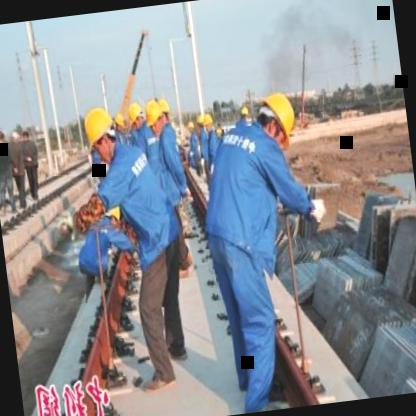head: (0, 124, 6, 147)
helmet: (251, 86, 301, 150), (78, 99, 121, 165), (142, 96, 166, 136), (126, 97, 148, 136), (157, 94, 173, 122), (112, 107, 126, 134), (202, 108, 215, 133)
